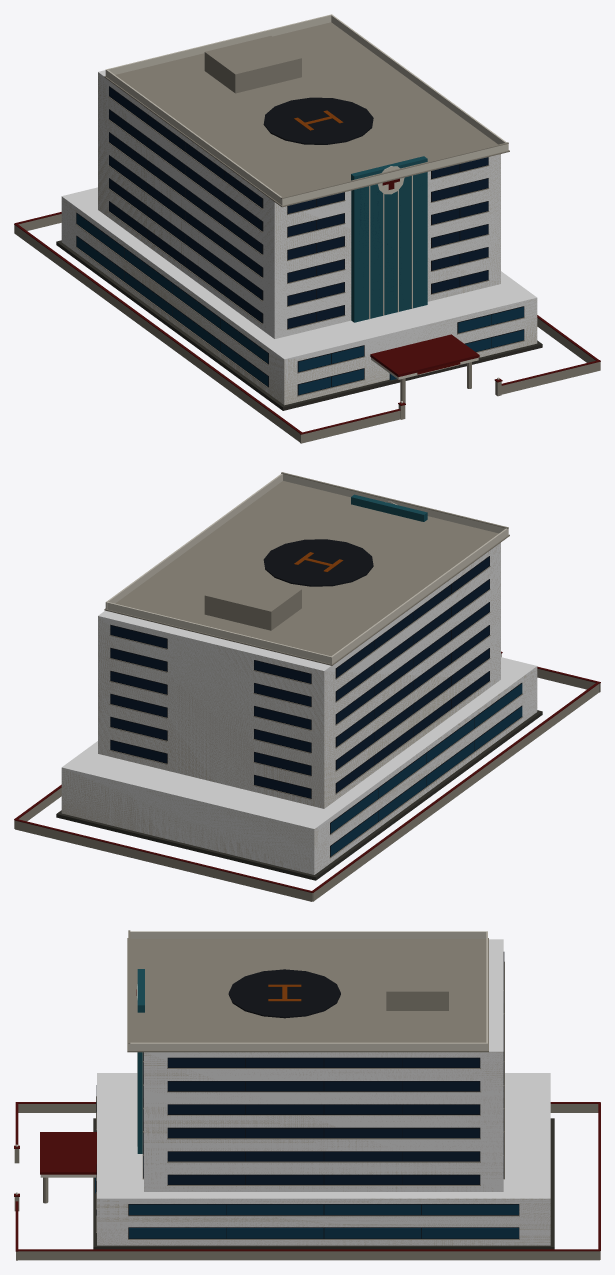
File: B47_hospital_tower.glb
The picture shows the model from 3 angles, top to bottom: view 1: azimuth 30°, elevation 25°; view 2: azimuth 150°, elevation 25°; view 3: azimuth 270°, elevation 25°; orthographic projection.
Parts seen in each view (by area): view 1: LOD0, COL_Main, COL_Podium; view 2: LOD0, COL_Main, COL_Podium; view 3: LOD0, COL_Main, COL_Podium.
Boxes of the visible parts, x1,y1,x2,y2 form: LOD0: [14, 14, 600, 443]; COL_Main: [98, 70, 500, 338]; COL_Podium: [61, 187, 537, 404]; LOD0: [14, 472, 600, 901]; COL_Main: [98, 543, 500, 808]; COL_Podium: [61, 657, 537, 874]; LOD0: [14, 930, 600, 1260]; COL_Main: [144, 939, 503, 1191]; COL_Podium: [97, 1073, 550, 1245].
Size of what is drawn, in the model's own units: 45.08 by 29.8 by 75.06.
